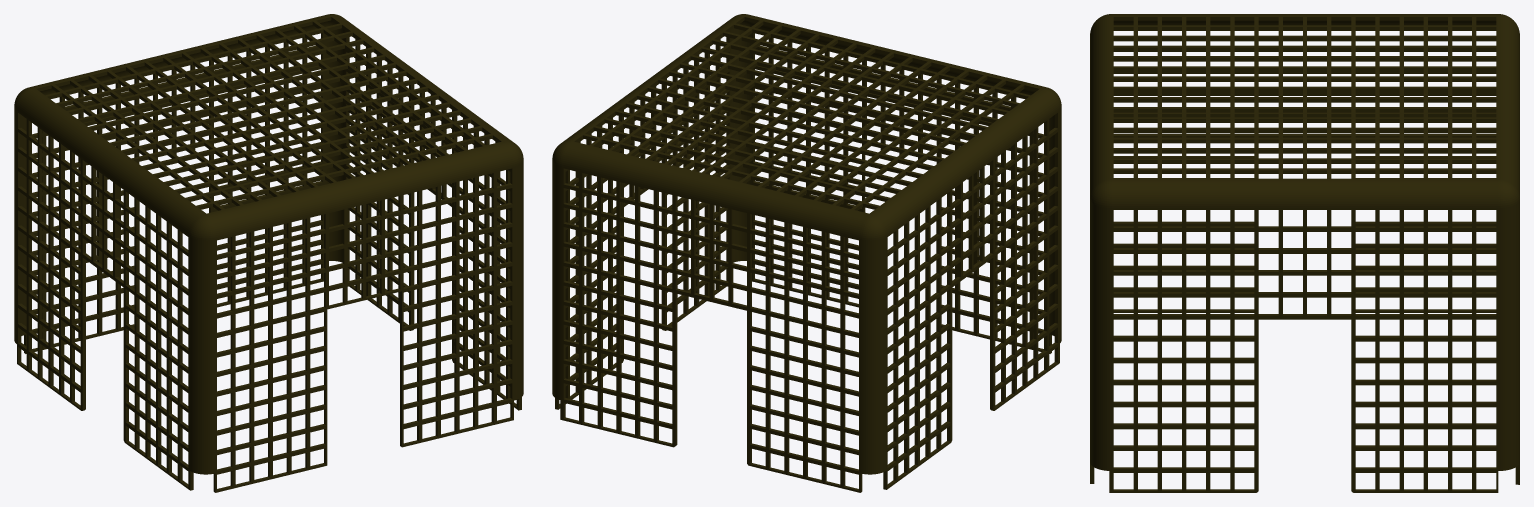
Rendered from FS_Cage_Edges2.fbx.
3 renders of one model, left to right at view 1: azimuth 30°, elevation 25°; view 2: azimuth 150°, elevation 25°; view 3: azimuth 270°, elevation 25°, orthographic. The views are drawn at different scales.
Visible parts, largest first — view 1: Cube; view 2: Cube; view 3: Cube.
Part boxes in pixels (bbox=[...]): Cube: bbox=[14, 14, 523, 492]; Cube: bbox=[552, 14, 1061, 492]; Cube: bbox=[1090, 14, 1519, 492].
Bounding box in the file's own units: 600 × 469 × 600.
